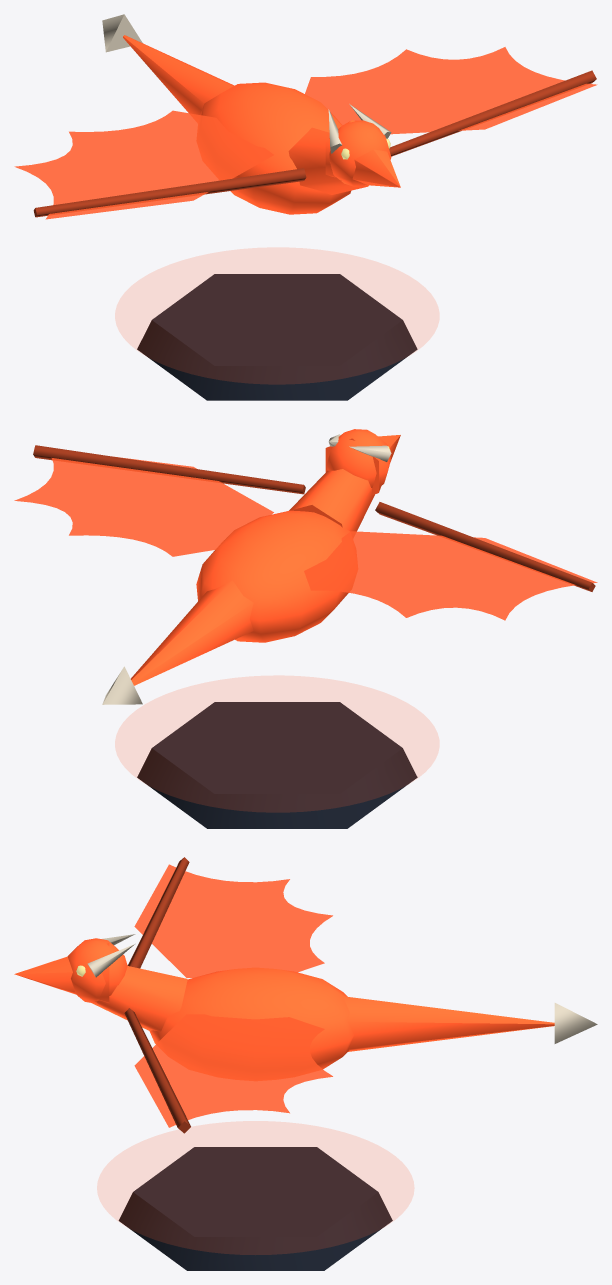
The model's file is 1-salamandra.glb.
3 views of the same model, one above another, from view 1: azimuth 30°, elevation 25°; view 2: azimuth 150°, elevation 25°; view 3: azimuth 270°, elevation 25° (orthographic). The views are drawn at different scales.
Size of the model in its own units: 4.37 by 2.15 by 4.04.
